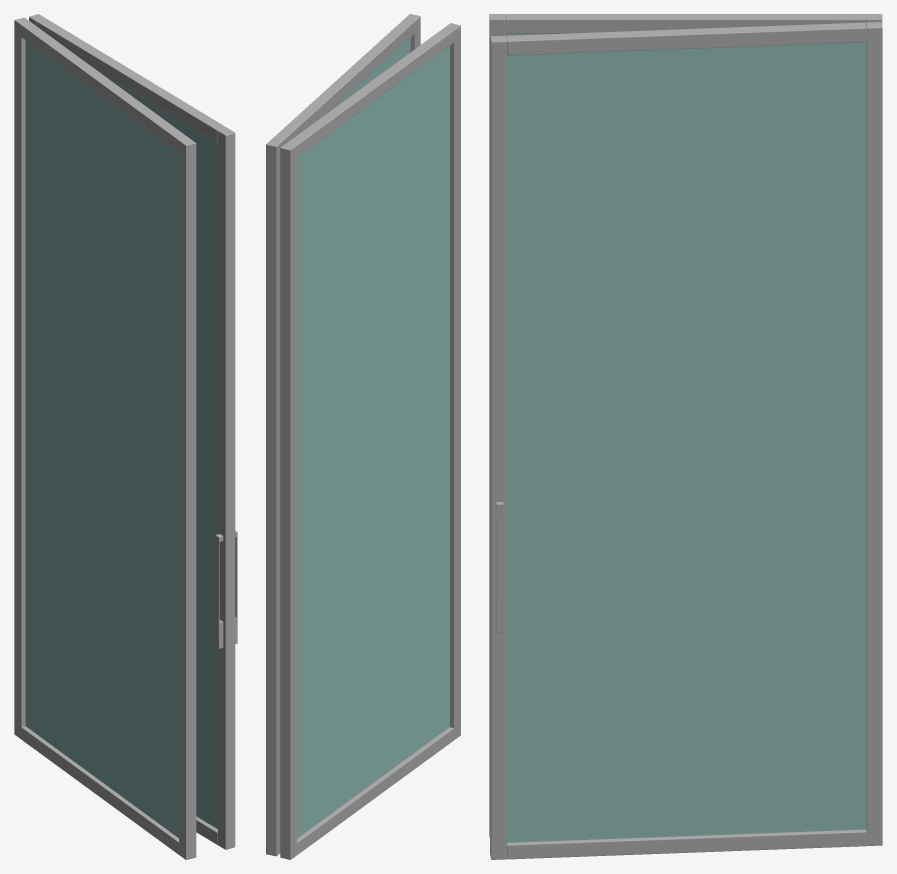
The model's file is DOOR_porch_3.FBX.
The picture shows the model from 3 angles, left to right: view 1: azimuth 30°, elevation 25°; view 2: azimuth 150°, elevation 25°; view 3: azimuth 270°, elevation 25°; orthographic projection. The views are drawn at different scales.
Visible parts, largest first — view 1: DOOR_porch_3; view 2: DOOR_porch_3; view 3: DOOR_porch_3.
Part boxes in pixels (box(x1,y1,x2,y2)): DOOR_porch_3: box(14, 14, 237, 859); DOOR_porch_3: box(266, 14, 460, 859); DOOR_porch_3: box(489, 14, 882, 859).
Size of the model in its own units: 23.2 by 126 by 289.
